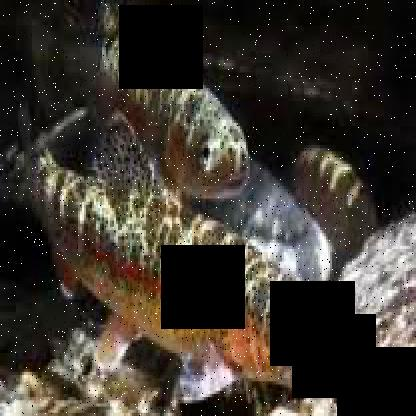fish: (6, 137, 334, 403)
